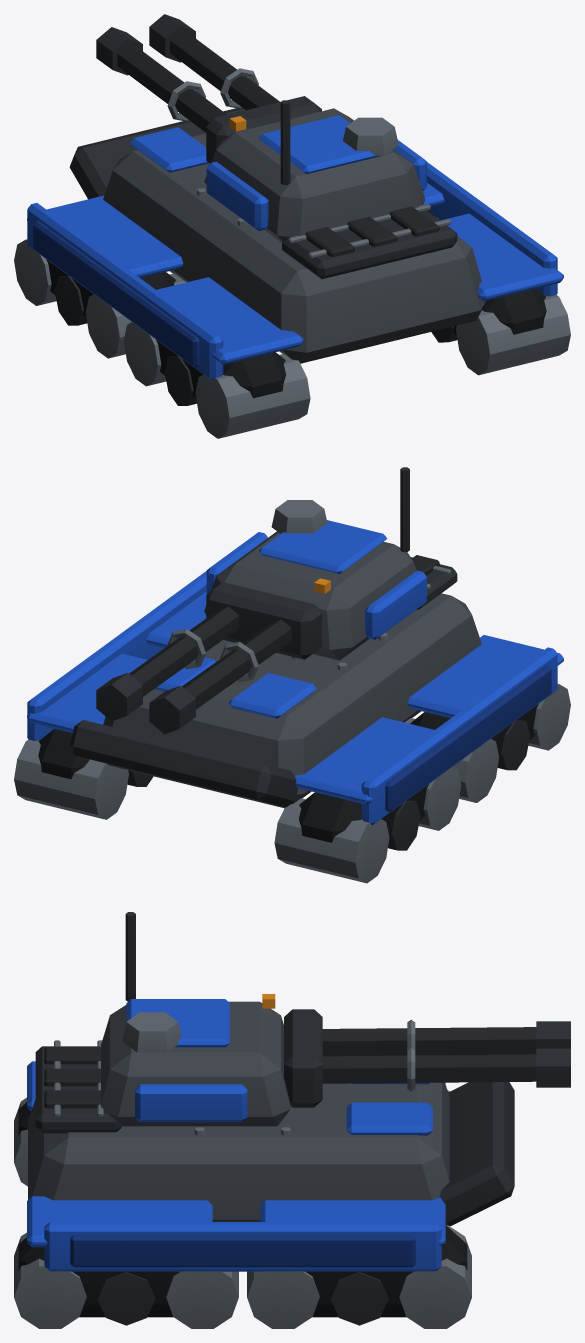
The model's file is mastodon.glb.
The picture shows the model from 3 angles, top to bottom: view 1: azimuth 30°, elevation 25°; view 2: azimuth 150°, elevation 25°; view 3: azimuth 270°, elevation 25°; orthographic projection. The views are drawn at different scales.
Parts seen in each view (by area): view 1: hull, turret; view 2: hull, turret; view 3: hull, turret.
Boxes of the visible parts, left/top/right/bottom form: hull: left=14, top=107, right=570, bottom=438; turret: left=96, top=14, right=426, bottom=242; hull: left=14, top=555, right=570, bottom=883; turret: left=96, top=467, right=426, bottom=734; hull: left=14, top=1040, right=514, bottom=1328; turret: left=101, top=912, right=570, bottom=1126.
Bounding box in the file's own units: 1.02 × 0.76 × 1.29.
